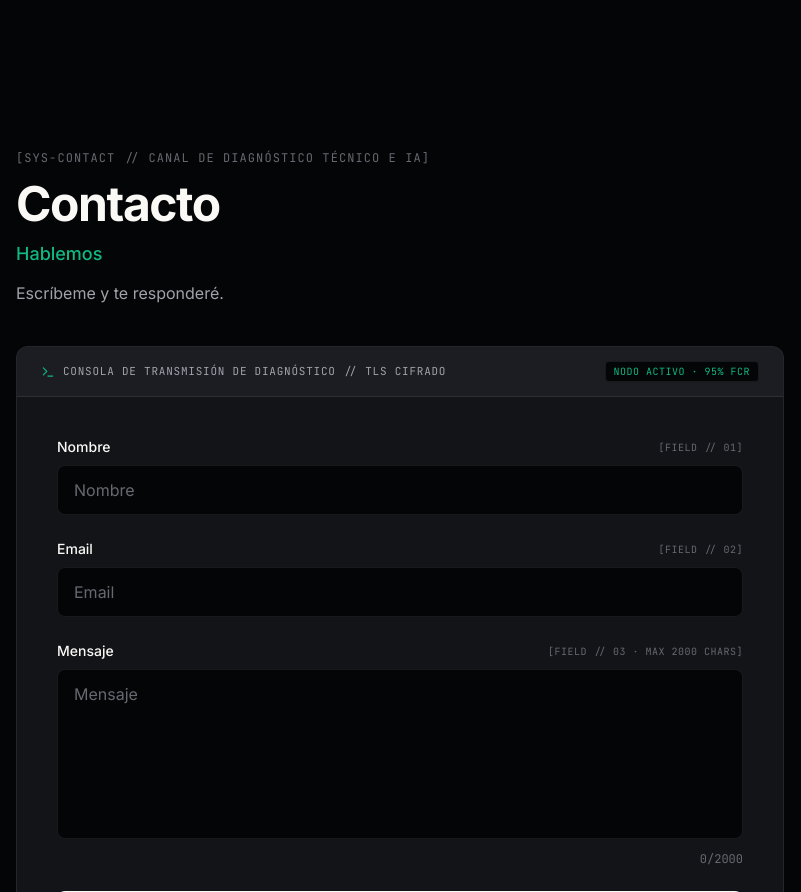
Test case: ContactForm Component › should handle API error
Type "Test User" into the field labelled "Nombre" at {"x": 400, "y": 490}, box [57, 465, 743, 515]
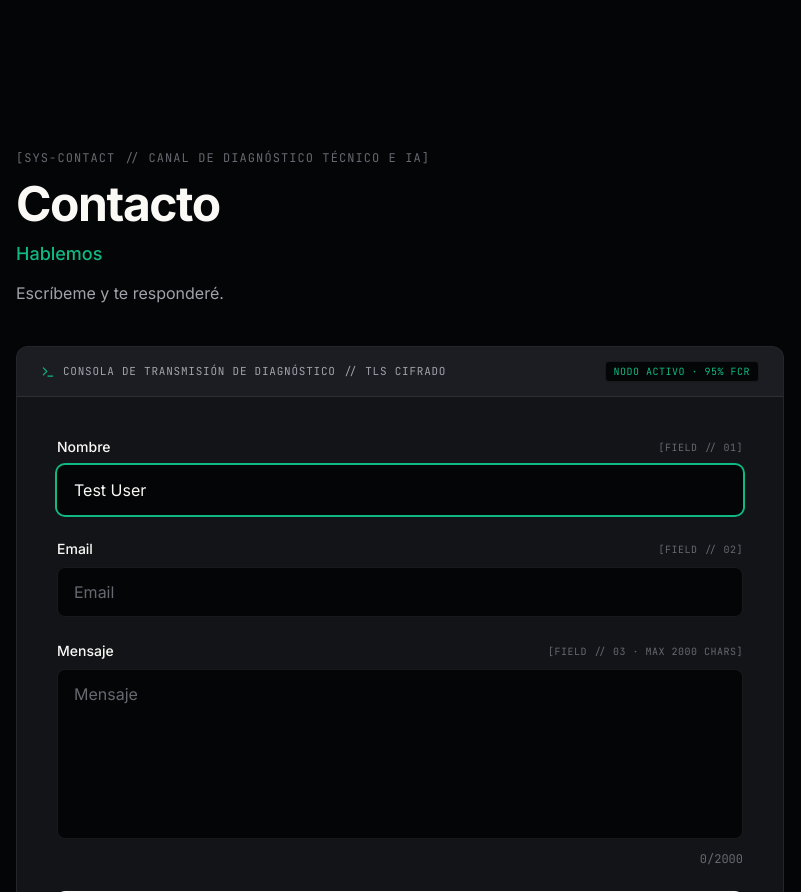
Type "test@example.com" into the field labelled "Email" at {"x": 400, "y": 592}, box [57, 567, 743, 617]
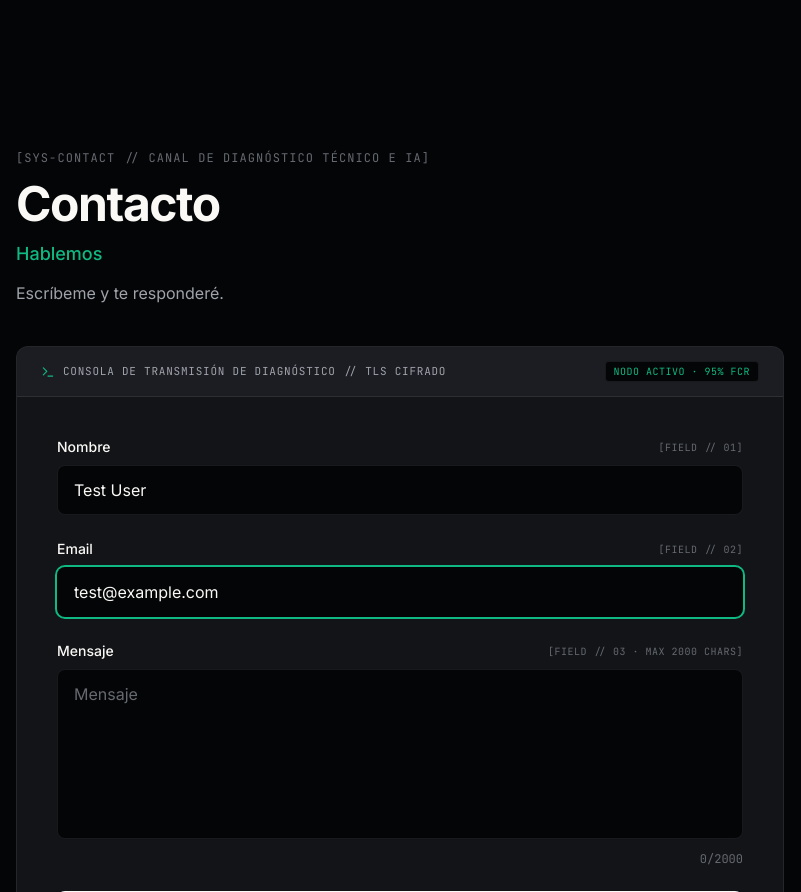
Type "This is a test message with enough characters" into the text box labelled "Mensaje" at {"x": 400, "y": 754}, box [57, 669, 743, 839]
(page scrolled)
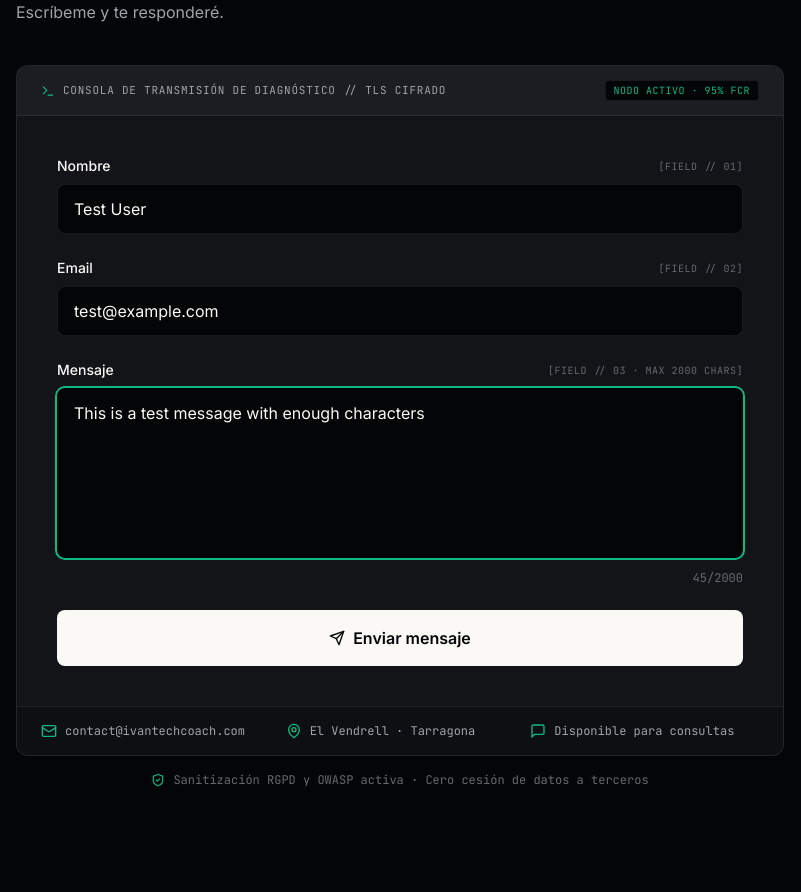
Click the button "Enviar mensaje" at {"x": 400, "y": 638}, box [57, 610, 743, 666]
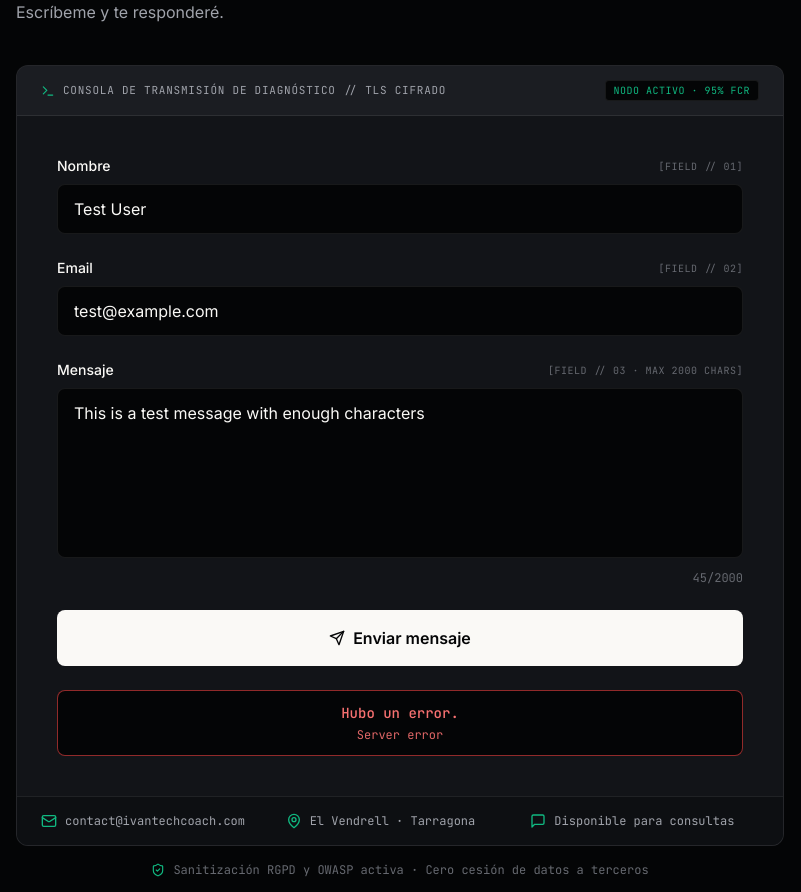
Result: the text "Hubo un error." is shown at [341, 704, 459, 722]
